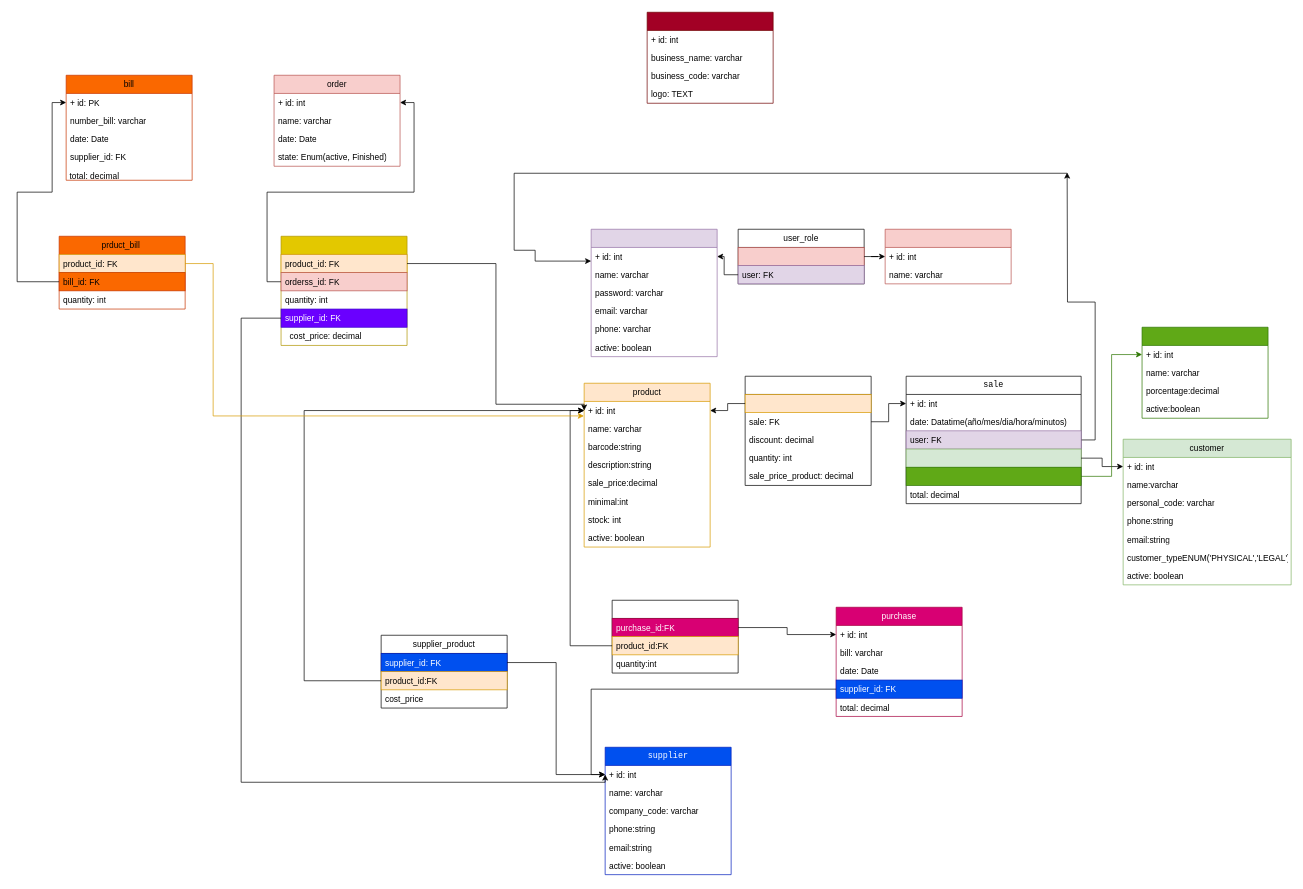
The diagram is 1303 pixels wide and 889 high, and some of its shapes have lost their labels. The box of each missing label's shape, as (x1, y1, x2, y2) in pixels:
bussines: (646, 12, 773, 103)
client:FK: (905, 448, 1081, 467)
product: FK: (744, 394, 871, 413)
product_order: (280, 236, 407, 345)
product_purchase: (611, 600, 738, 673)
product_sales: (744, 376, 871, 485)
role: (884, 229, 1011, 284)
role: FK: (737, 247, 864, 266)
tax: (1141, 327, 1268, 418)
tax:FK: (905, 467, 1081, 485)
user: (590, 229, 717, 357)
